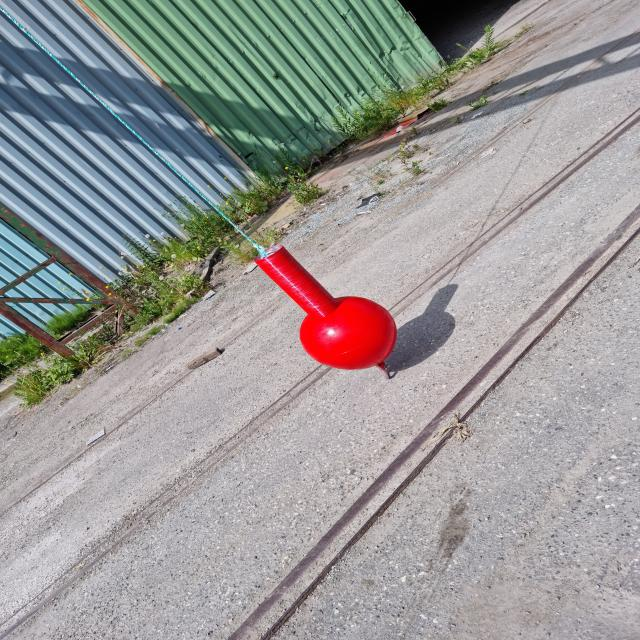red: (254, 246, 398, 370)
